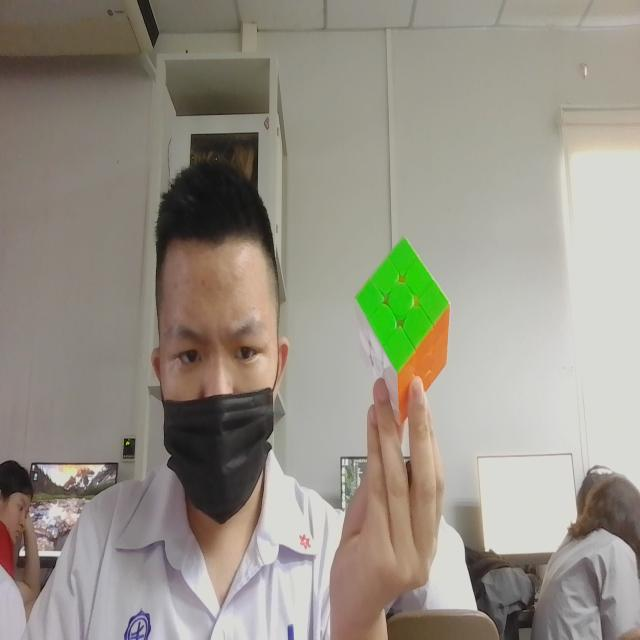rubik: (343, 223, 466, 424)
